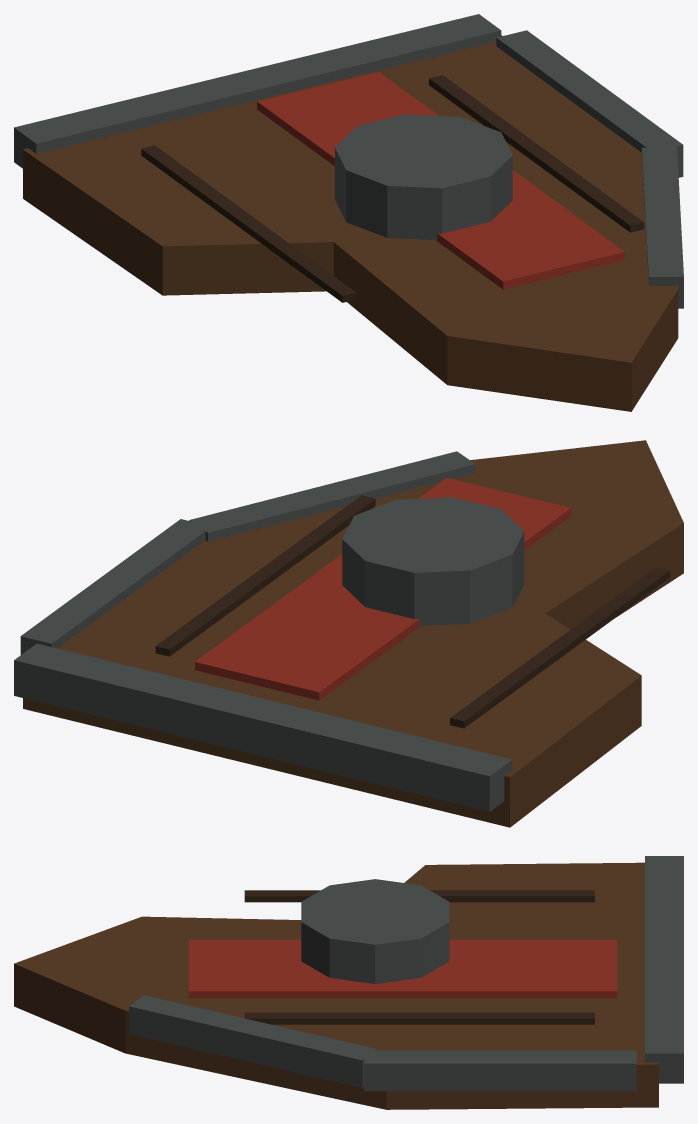
Rendered from broken_shield.glb.
3 views of the same model, one above another, from view 1: azimuth 30°, elevation 25°; view 2: azimuth 150°, elevation 25°; view 3: azimuth 270°, elevation 25° (orthographic). The views are drawn at different scales.
Parts seen in each view (by area): view 1: Timber, Metal, Fabric; view 2: Timber, Metal, Fabric; view 3: Timber, Metal, Fabric.
Part boxes in pixels (x1=…): Timber: x1=23, y1=35, x2=678, y2=411; Metal: x1=14, y1=14, x2=683, y2=308; Fabric: x1=257, y1=72, x2=624, y2=289; Timber: x1=23, y1=440, x2=683, y2=827; Metal: x1=14, y1=451, x2=524, y2=811; Fabric: x1=195, y1=477, x2=571, y2=700; Timber: x1=14, y1=862, x2=658, y2=1109; Metal: x1=129, y1=856, x2=683, y2=1091; Fabric: x1=189, y1=939, x2=617, y2=998.
Bounding box in the file's own units: 0.8875 × 0.1875 × 1.2.
